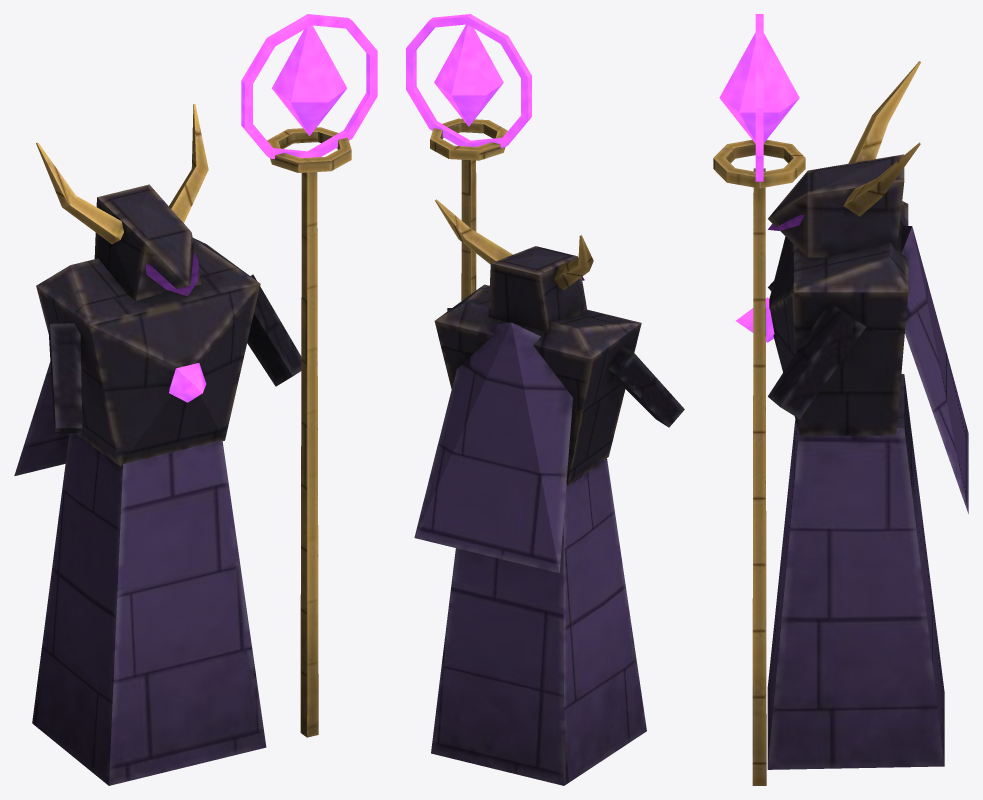
File: e_priest.glb
The picture shows the model from 3 angles, left to right: view 1: azimuth 30°, elevation 25°; view 2: azimuth 150°, elevation 25°; view 3: azimuth 270°, elevation 25°; orthographic projection. The views are drawn at different scales.
Visible parts, largest first — view 1: e_priest; view 2: e_priest; view 3: e_priest.
Part boxes in pixels (box(x1,y1,x2,y2)): e_priest: box(14, 14, 377, 785); e_priest: box(406, 14, 684, 785); e_priest: box(713, 14, 968, 785).
Bounding box in the file's own units: 1.04 × 2.32 × 0.6985.
Materials: 1 (1 with a texture image).
